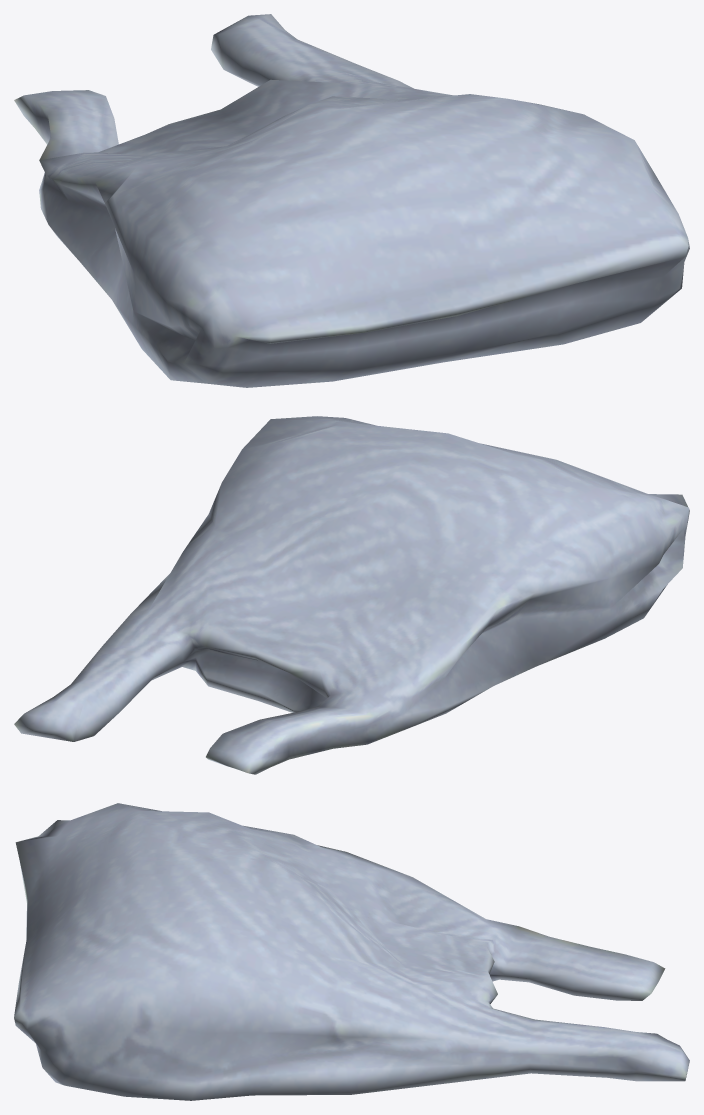
The model's file is trashPlasticBag04.FBX.
The picture shows the model from 3 angles, top to bottom: view 1: azimuth 30°, elevation 25°; view 2: azimuth 150°, elevation 25°; view 3: azimuth 270°, elevation 25°; orthographic projection. The views are drawn at different scales.
Visible parts, largest first — view 1: SM_TrashPlasticBag04; view 2: SM_TrashPlasticBag04; view 3: SM_TrashPlasticBag04.
Part boxes in pixels (left/top/right/bottom): SM_TrashPlasticBag04: left=14, top=14, right=689, bottom=387; SM_TrashPlasticBag04: left=14, top=416, right=689, bottom=774; SM_TrashPlasticBag04: left=14, top=803, right=689, bottom=1100.
Size of the model in its own units: 23.27 by 8.27 by 33.09.
Materials: 1 (1 with a texture image).
